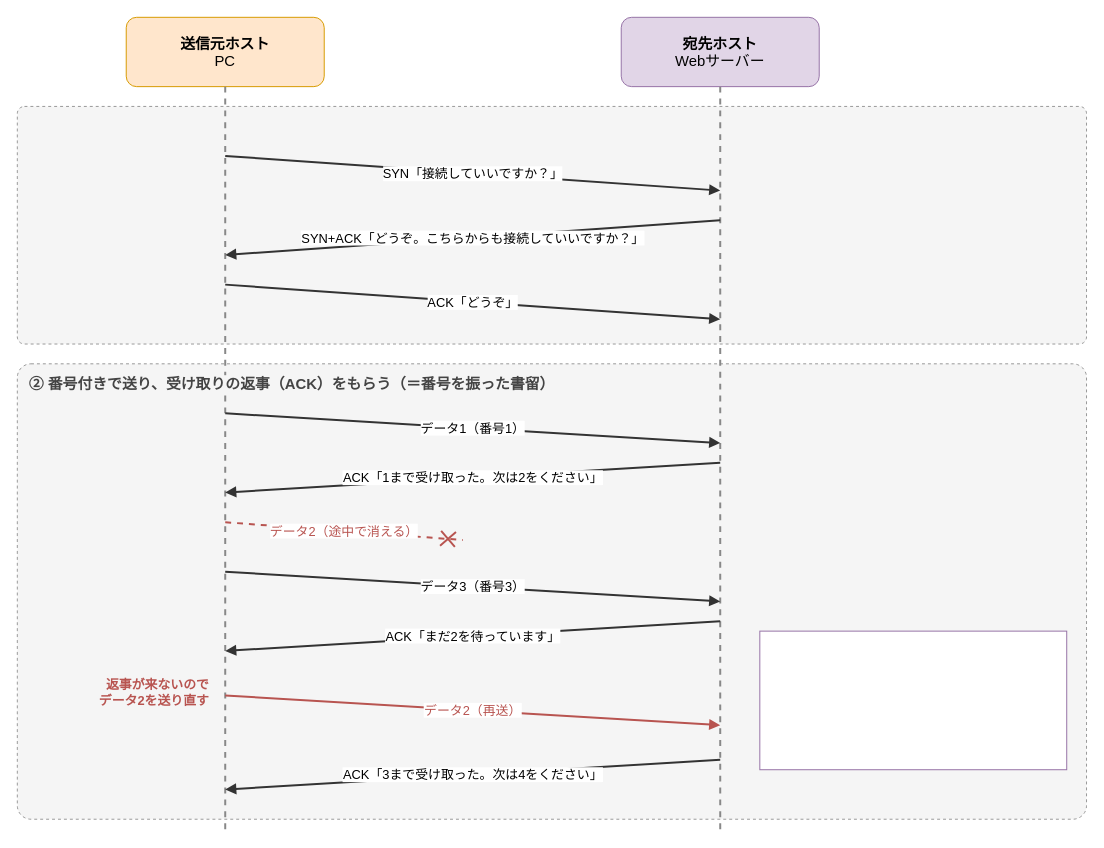
This 1104x848 diagram has some shape labels left out. Here are the shapes that lost their labels. From the top down, the centre of each, then its label:
point 551,224: ① 3ウェイハンドシェイク（＝送る前に、相手と準備ができたか確かめ合う）
point 913,700: 受信側で番号順に並べ直す 届いた順: 1 → 3 → 2 ↓ シーケンス番号を見て並べ直す アプリに渡す順: 1 → 2 → 3
